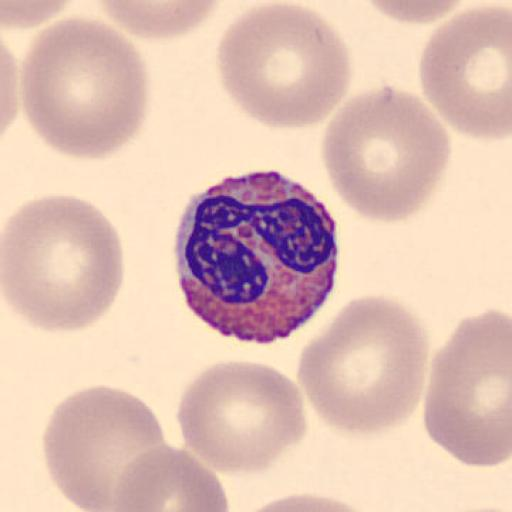RBC: (319, 83, 452, 226), (296, 292, 428, 436), (22, 17, 150, 162), (214, 0, 352, 130), (2, 194, 125, 334), (40, 383, 166, 511), (176, 358, 308, 476), (424, 305, 512, 469), (418, 4, 512, 142), (110, 441, 230, 512), (93, 0, 226, 42), (238, 491, 382, 512), (357, 0, 471, 24), (2, 0, 79, 30), (0, 38, 20, 140)
WBC: (170, 168, 343, 341)
